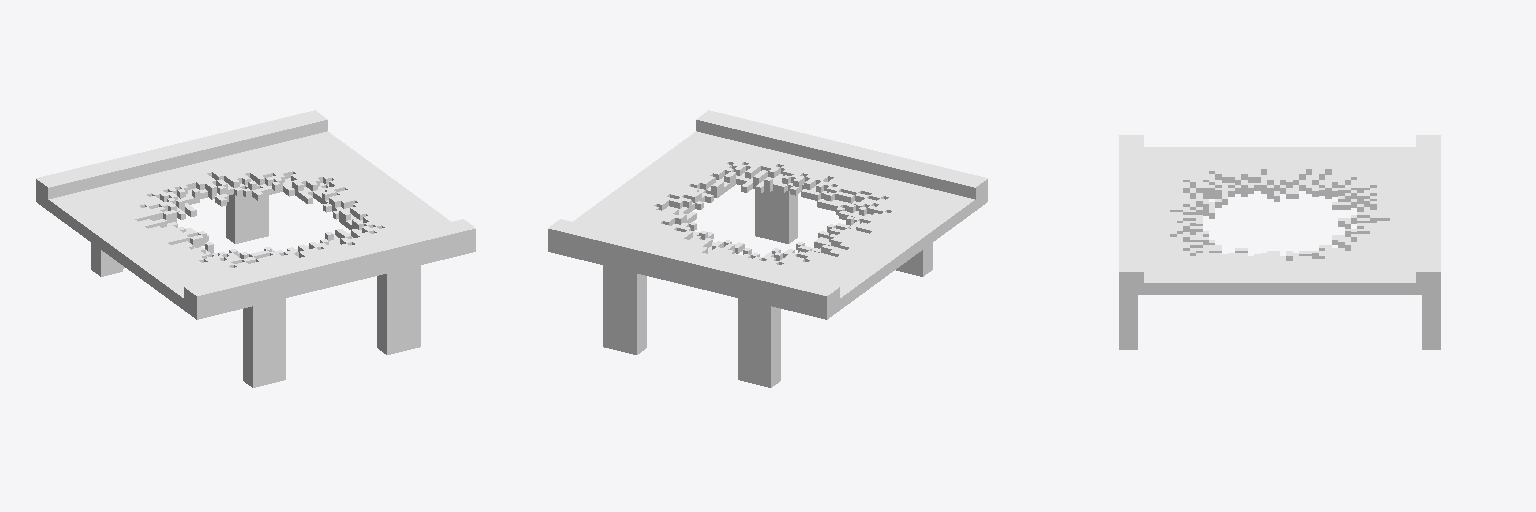
Rendered from Sinkhole_Front_road.obj.
3 views of the same model, side by side, from view 1: azimuth 30°, elevation 25°; view 2: azimuth 150°, elevation 25°; view 3: azimuth 270°, elevation 25° (orthographic).
Parts seen in each view (by area): view 1: Sinkhole_Front_road; view 2: Sinkhole_Front_road; view 3: Sinkhole_Front_road.
Boxes of the visible parts, <box> form: Sinkhole_Front_road: <box>36,110,475,387</box>; Sinkhole_Front_road: <box>548,110,987,387</box>; Sinkhole_Front_road: <box>1119,135,1440,349</box>.
Size of the model in its own units: 50 by 18 by 50.